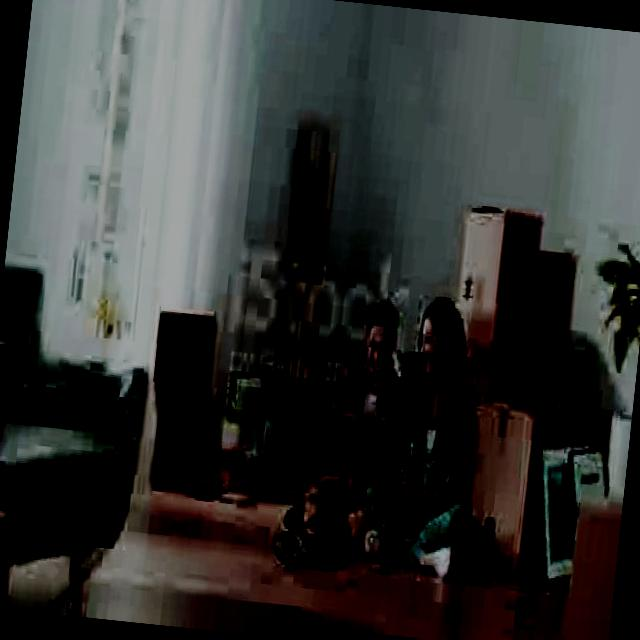Box: (458, 200, 569, 397), (154, 301, 226, 395), (144, 388, 212, 482)
